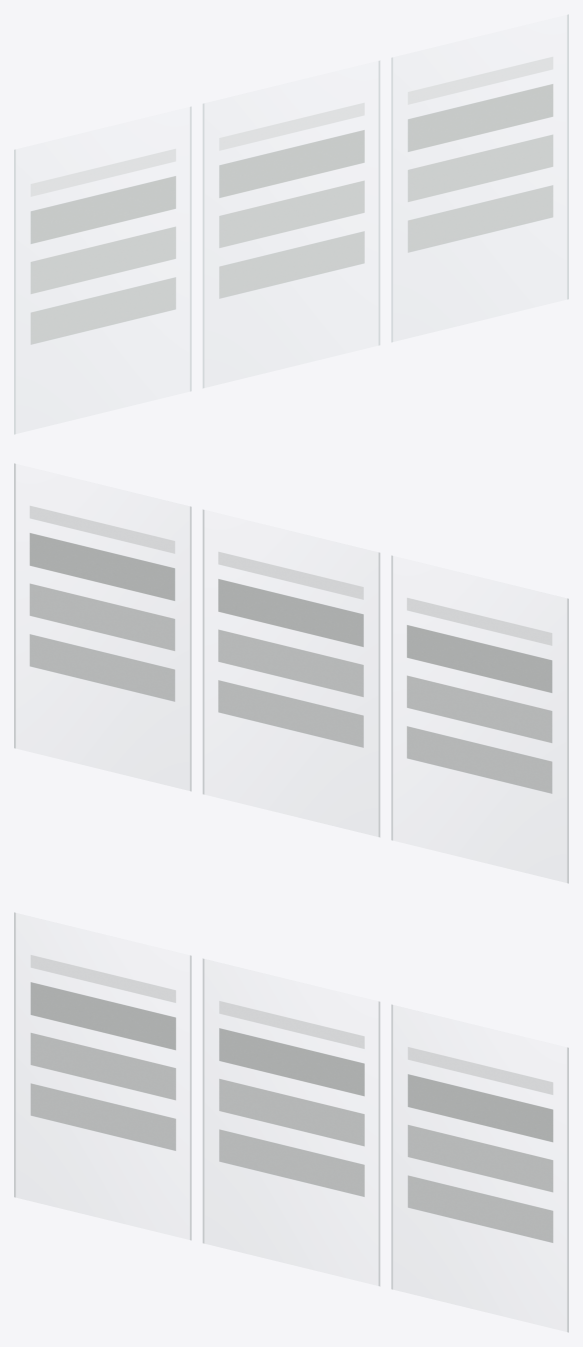
Rendered from glass.glb.
3 renders of one model, top to bottom at view 1: azimuth 30°, elevation 25°; view 2: azimuth 150°, elevation 25°; view 3: azimuth 330°, elevation 25°, orthographic.
Visible parts, largest first — view 1: Glazing; view 2: Glazing; view 3: Glazing.
Boxes of the visible parts, x1,y1,x2,y2 form: Glazing: [14, 14, 568, 434]; Glazing: [14, 463, 568, 883]; Glazing: [14, 912, 568, 1332].
Bounding box in the file's own units: 3.96 × 1.94 × 0.
1 material, 1 textured.
